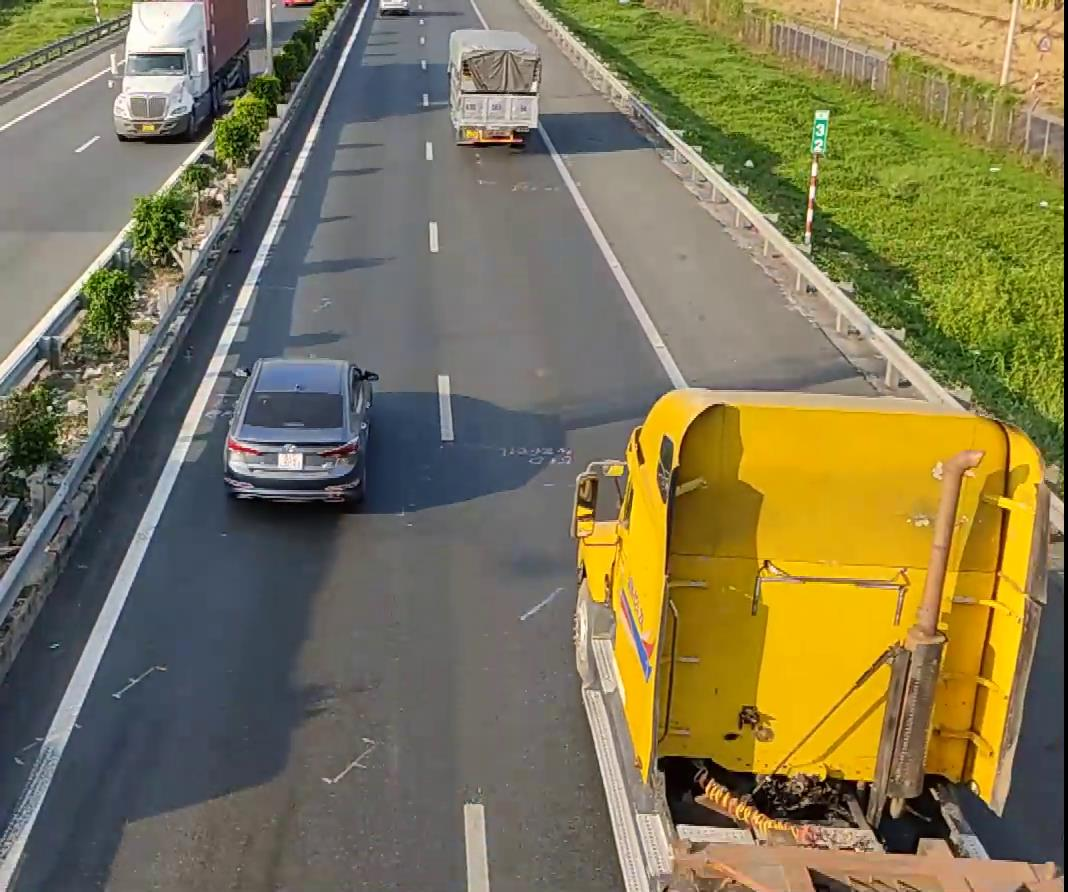car: (222, 355, 378, 505)
container: (569, 384, 1046, 892), (110, 0, 254, 137)
truck: (446, 27, 542, 146)
